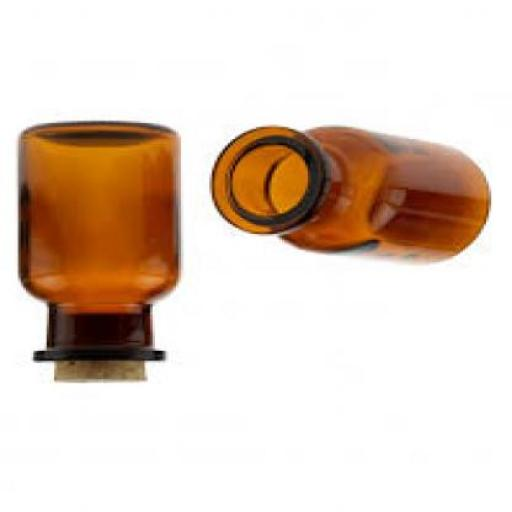glass: (21, 123, 183, 363), (215, 128, 494, 266)
